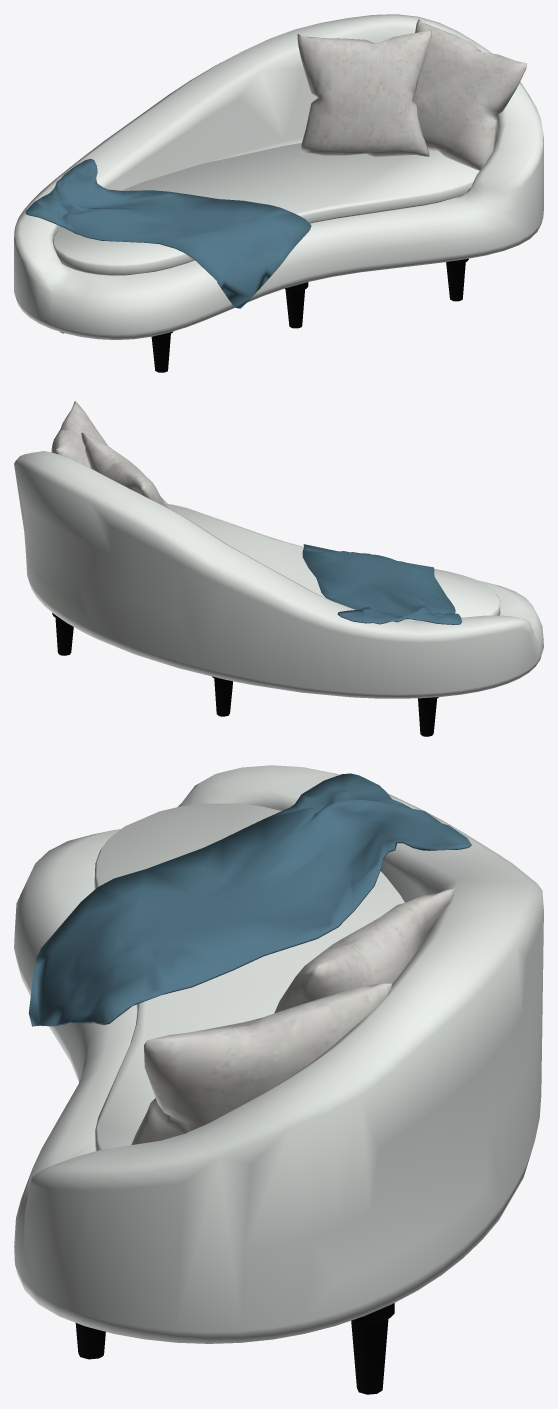
The model's file is sofa_003.glb.
The picture shows the model from 3 angles, top to bottom: view 1: azimuth 30°, elevation 25°; view 2: azimuth 150°, elevation 25°; view 3: azimuth 270°, elevation 25°; orthographic projection. The views are drawn at different scales.
Parts seen in each view (by area): view 1: sofa_003; view 2: sofa_003; view 3: sofa_003.
Boxes of the visible parts, <box> form: sofa_003: <box>14,14,543,372</box>; sofa_003: <box>14,401,543,736</box>; sofa_003: <box>14,765,543,1394</box>.
Bounding box in the file's own units: 1.99 × 0.8213 × 0.9464.
Materials: 1 (1 with a texture image).
